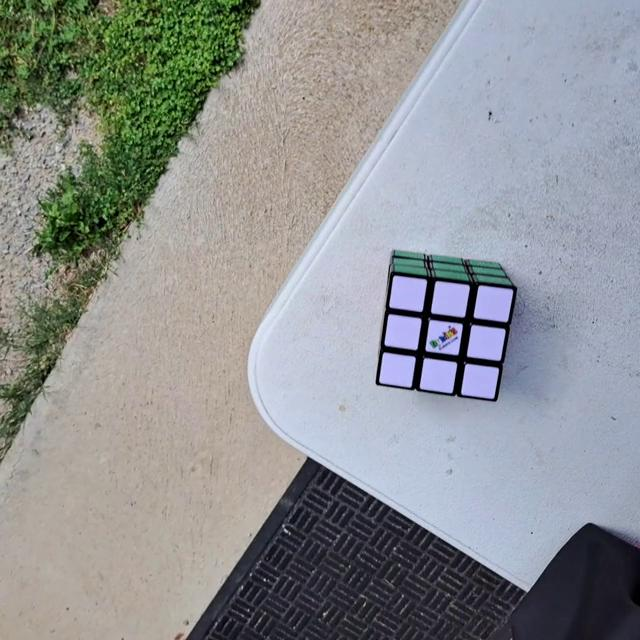rubix_cube: (374, 248, 522, 404)
